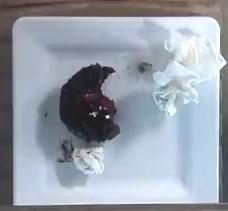dessert: (60, 63, 120, 142)
